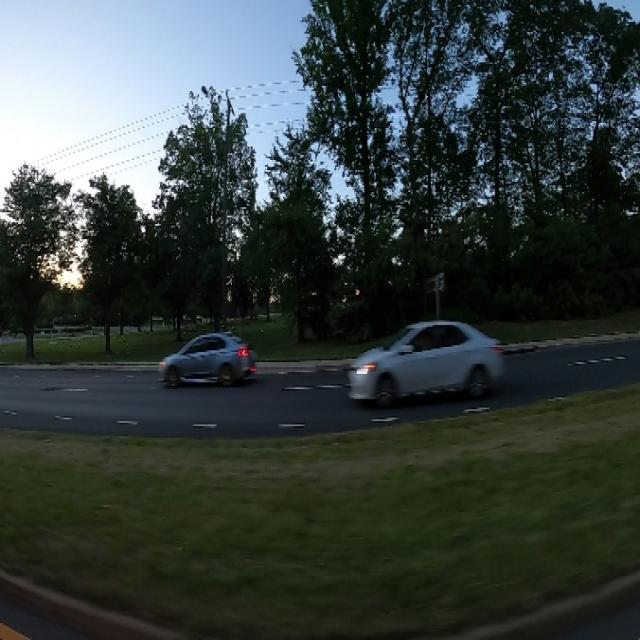Cars: (357, 318, 505, 397), (159, 339, 258, 389)
